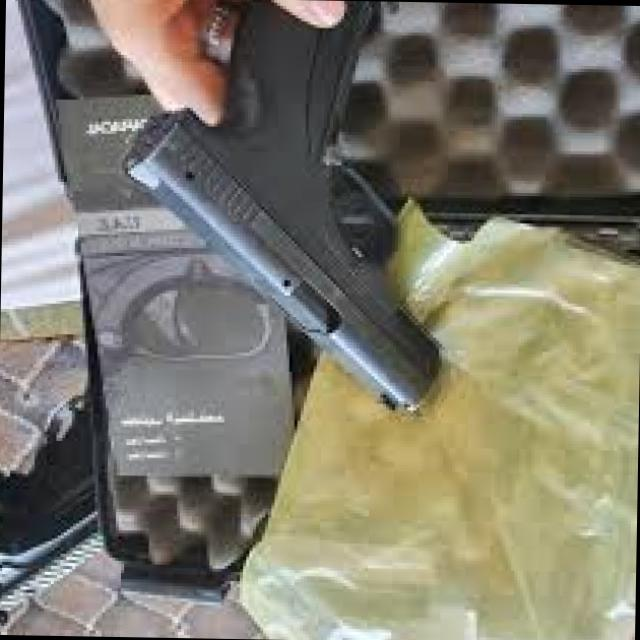Gun: (86, 0, 514, 430)
